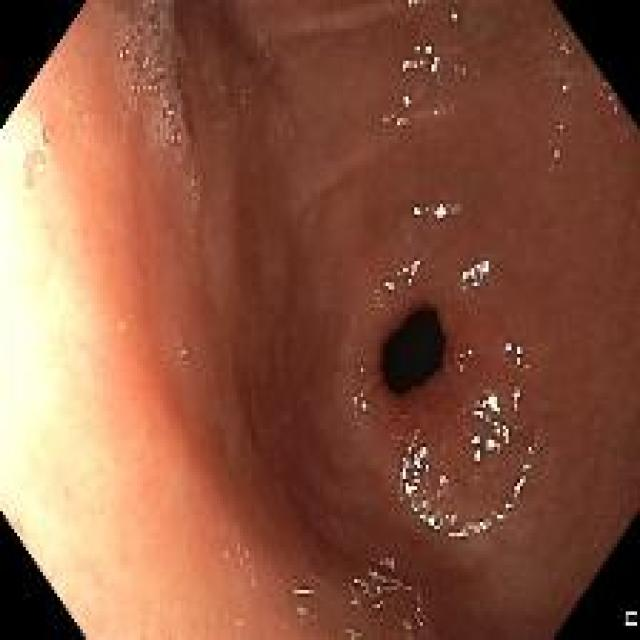bubbles: (117, 42, 176, 95), (149, 94, 189, 157), (137, 0, 174, 42), (545, 24, 576, 59), (21, 147, 46, 190), (451, 343, 475, 373), (554, 76, 575, 96), (413, 585, 432, 607), (448, 8, 464, 31), (401, 615, 417, 636), (348, 27, 369, 42), (377, 555, 395, 570), (212, 116, 227, 133), (611, 103, 624, 119), (187, 176, 200, 191), (452, 63, 466, 76), (280, 126, 292, 141), (621, 126, 632, 142), (438, 15, 449, 31), (176, 344, 188, 358), (242, 82, 254, 96), (258, 49, 272, 61), (346, 626, 360, 638), (38, 128, 50, 141), (384, 581, 397, 593), (606, 88, 617, 102), (187, 223, 197, 238), (374, 599, 386, 611), (368, 590, 378, 604), (403, 116, 412, 131), (469, 65, 479, 78), (403, 583, 413, 596), (545, 135, 555, 147), (216, 83, 227, 93), (413, 618, 423, 628)
contrast: (377, 303, 446, 400)
saturation: (0, 96, 123, 636)
specularity: (399, 443, 430, 498), (495, 476, 526, 521), (470, 433, 498, 462), (460, 260, 490, 285), (472, 394, 501, 418), (446, 522, 483, 539), (419, 509, 442, 533), (492, 420, 510, 445), (408, 498, 430, 511), (480, 509, 490, 534), (430, 53, 440, 74), (444, 511, 457, 524), (434, 203, 445, 218), (514, 345, 522, 364), (513, 389, 520, 409), (401, 58, 412, 70), (358, 399, 368, 411), (438, 473, 447, 485), (411, 206, 421, 216), (351, 395, 358, 408), (505, 341, 512, 354), (402, 94, 411, 104), (384, 279, 393, 288), (423, 43, 432, 52), (411, 261, 417, 274), (394, 115, 401, 125), (406, 275, 413, 284), (450, 13, 458, 20), (413, 44, 419, 53), (402, 265, 407, 273), (353, 578, 358, 585)
